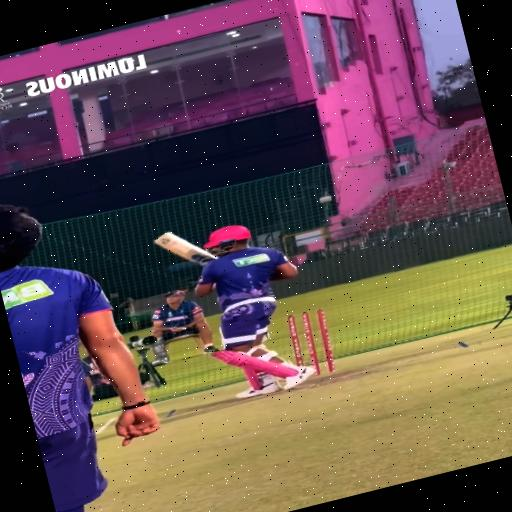Cricket bat: (155, 232, 217, 265)
